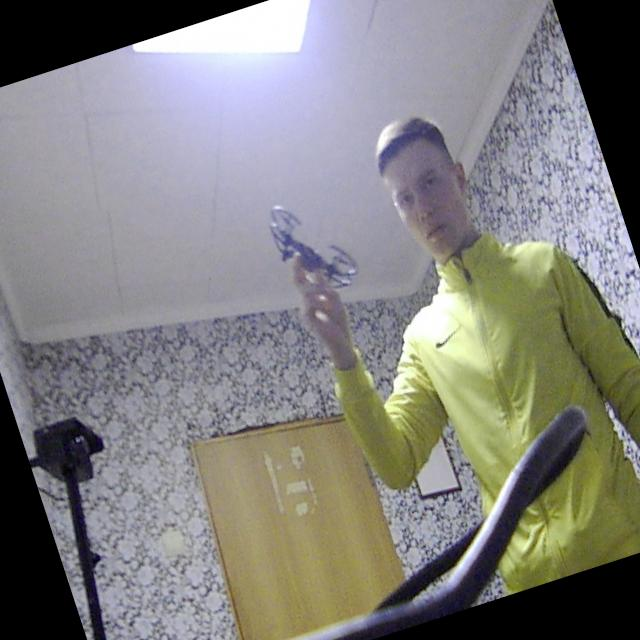drone: (250, 179, 376, 324)
